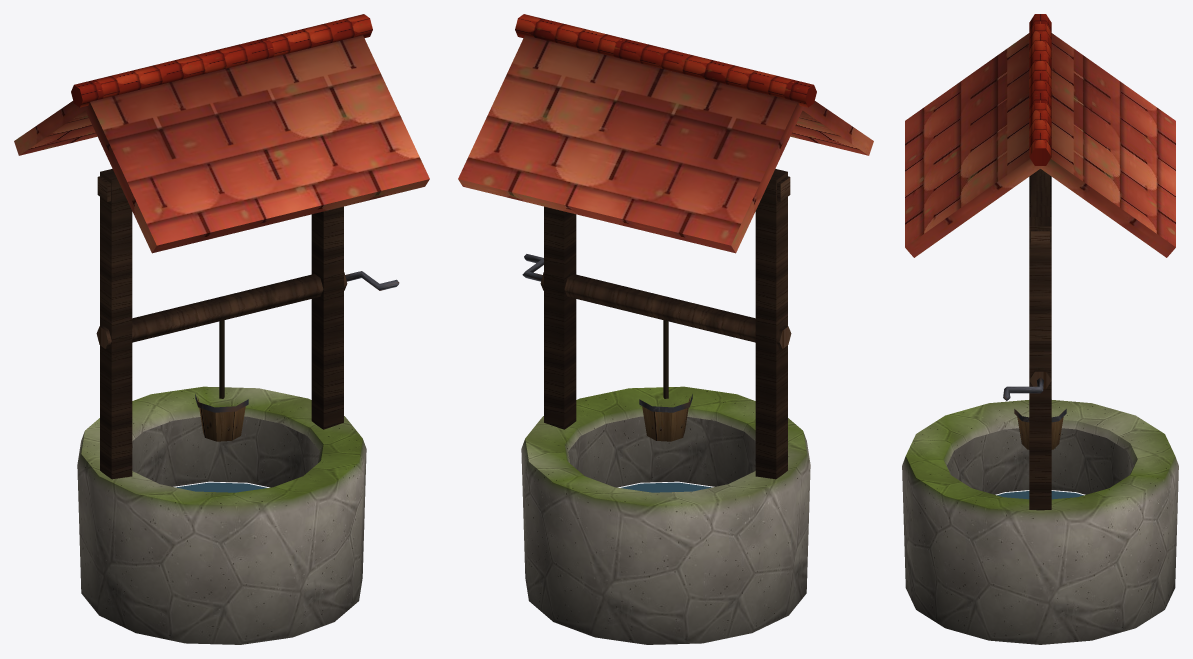
Rendered from town_well.glb.
3 renders of one model, left to right at view 1: azimuth 30°, elevation 25°; view 2: azimuth 150°, elevation 25°; view 3: azimuth 270°, elevation 25°, orthographic. The views are drawn at different scales.
Visible parts, largest first — view 1: town_well; view 2: town_well; view 3: town_well.
Boxes of the visible parts, x1,y1,x2,y2 form: town_well: (14, 14, 429, 644); town_well: (458, 14, 873, 644); town_well: (902, 14, 1178, 644).
Size of the model in its own units: 1.79 by 2.99 by 1.48.
7 materials, 6 textured.
